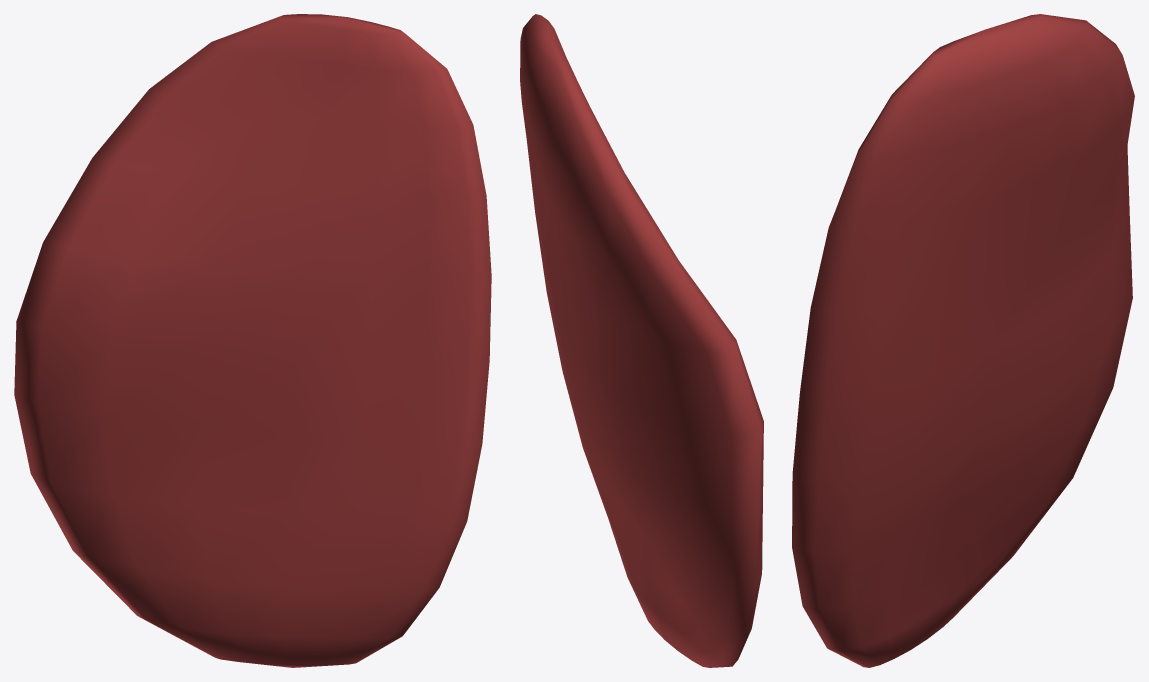
The model's file is trochanteric-bursa-of-gluteus-maximus-muscle-l.glb.
3 renders of one model, left to right at view 1: azimuth 30°, elevation 25°; view 2: azimuth 150°, elevation 25°; view 3: azimuth 270°, elevation 25°, orthographic. The views are drawn at different scales.
Visible parts, largest first — view 1: Trochanteric bursa of gluteus maximus muscle.l; view 2: Trochanteric bursa of gluteus maximus muscle.l; view 3: Trochanteric bursa of gluteus maximus muscle.l.
Boxes of the visible parts, box(x1,y1,x2,y2) form: Trochanteric bursa of gluteus maximus muscle.l: box(14, 14, 491, 667); Trochanteric bursa of gluteus maximus muscle.l: box(520, 14, 763, 667); Trochanteric bursa of gluteus maximus muscle.l: box(792, 14, 1134, 667).
Bounding box in the file's own units: 0.018 × 0.0301 × 0.014.
